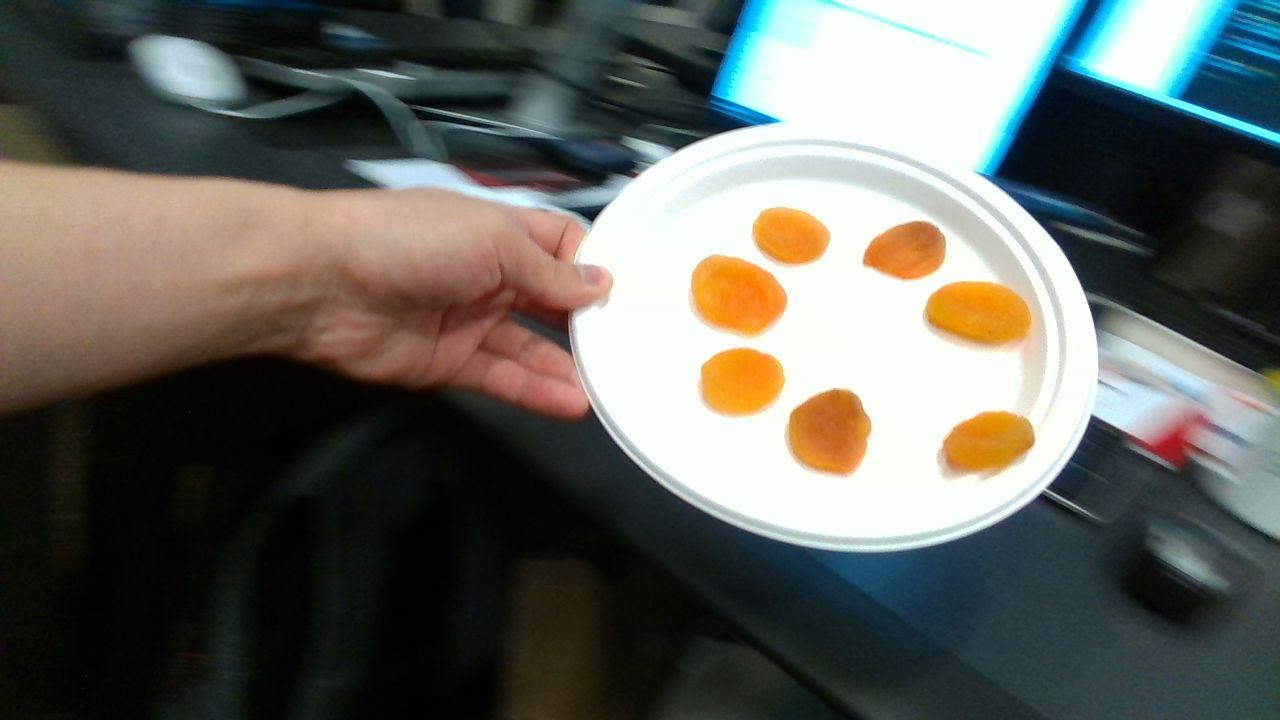apricot: (693, 256, 786, 333), (929, 282, 1031, 344), (792, 392, 869, 470), (945, 412, 1035, 470), (703, 350, 783, 413), (863, 221, 944, 279), (753, 209, 829, 264)
plate: (569, 124, 1098, 551)
